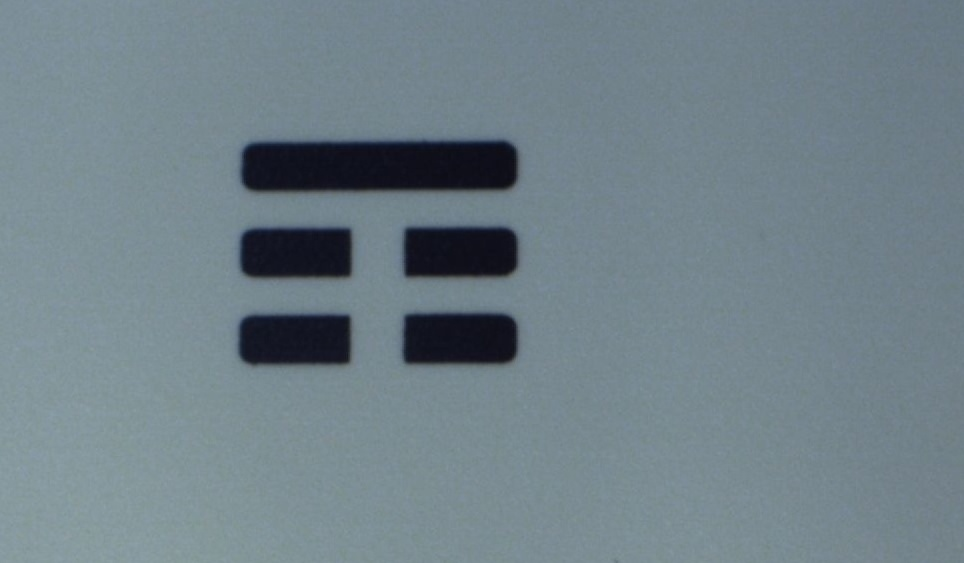BV_F6600PTIM: (220, 125, 539, 388)
